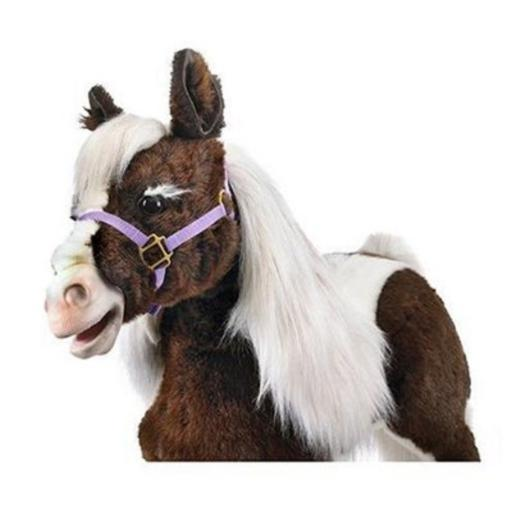horse: (41, 48, 483, 464)
